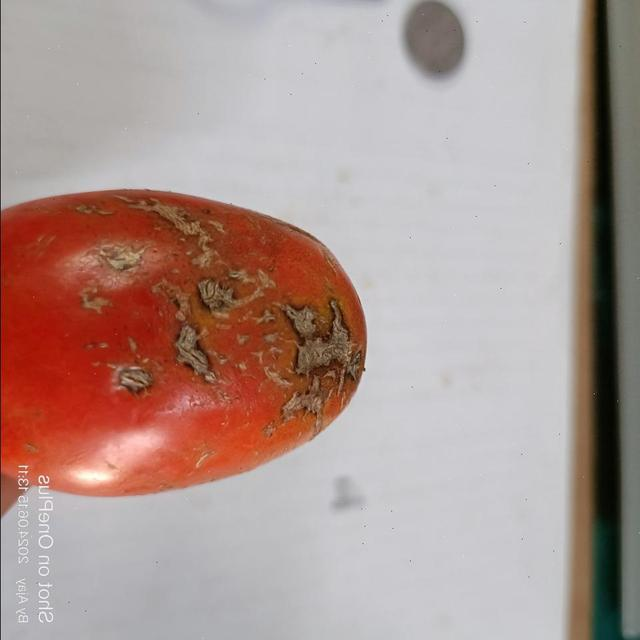Bacterial Spot Fruit: (26, 29, 214, 254)
